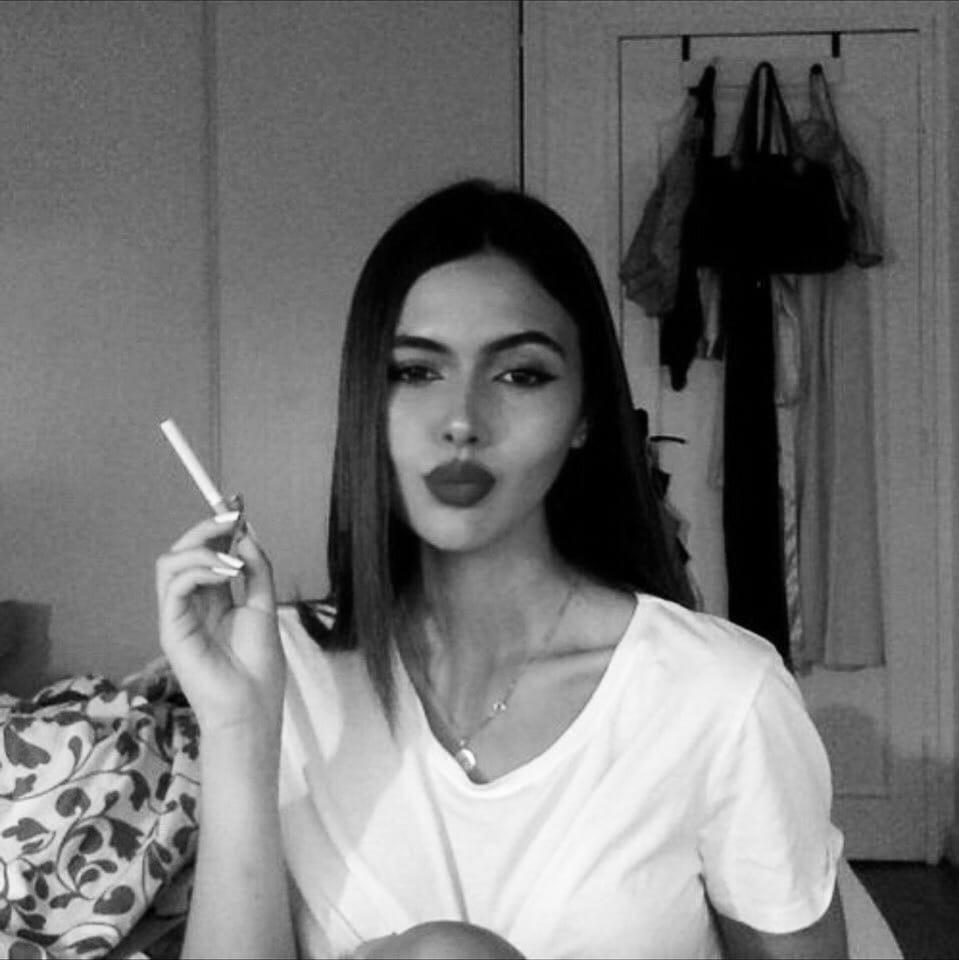cigarette: (157, 418, 230, 515)
